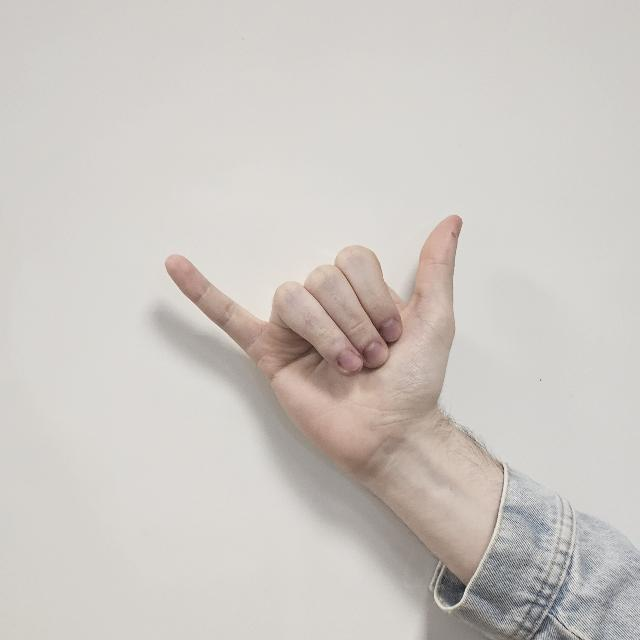Direita: (162, 214, 478, 488)
